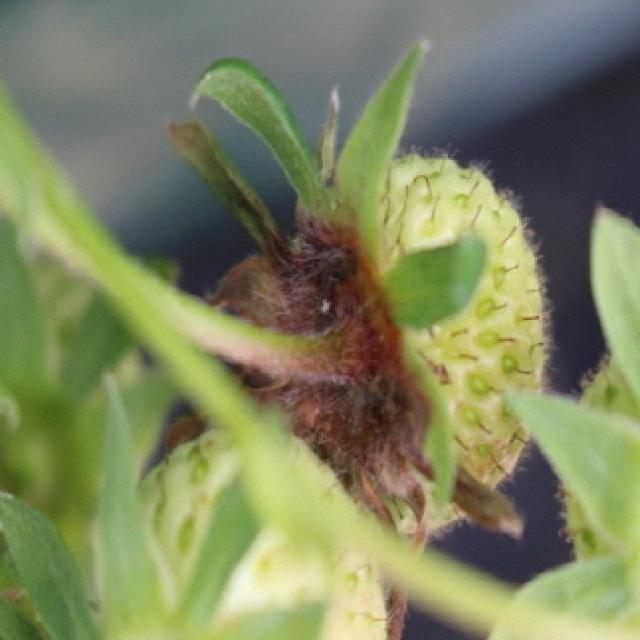Gray Mold: (160, 121, 527, 640)
